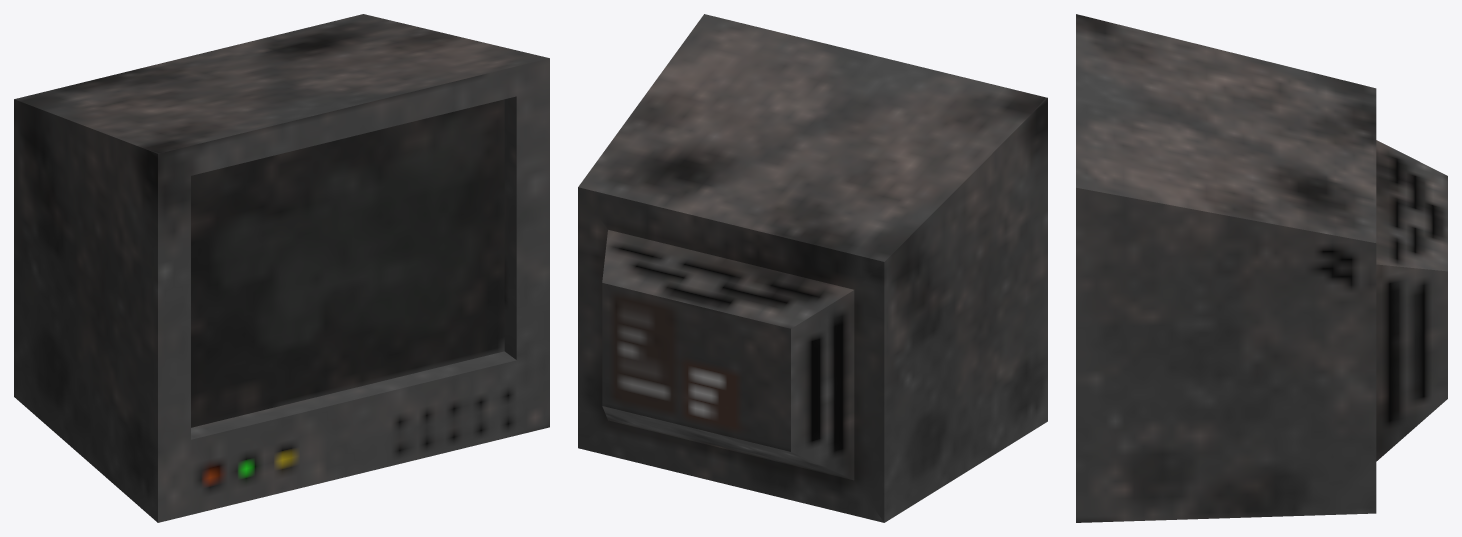
3 renders of one model, left to right at view 1: azimuth 30°, elevation 25°; view 2: azimuth 150°, elevation 25°; view 3: azimuth 270°, elevation 25°, orthographic. The views are drawn at different scales.
Visible parts, largest first — view 1: TV; view 2: TV; view 3: TV.
Part boxes in pixels (x1,y1,x2,y2): TV: (14, 14, 549, 522); TV: (578, 14, 1047, 522); TV: (1076, 14, 1447, 522).
Size of the model in its own units: 1.4 by 1.26 by 1.27.
1 material, 1 textured.
